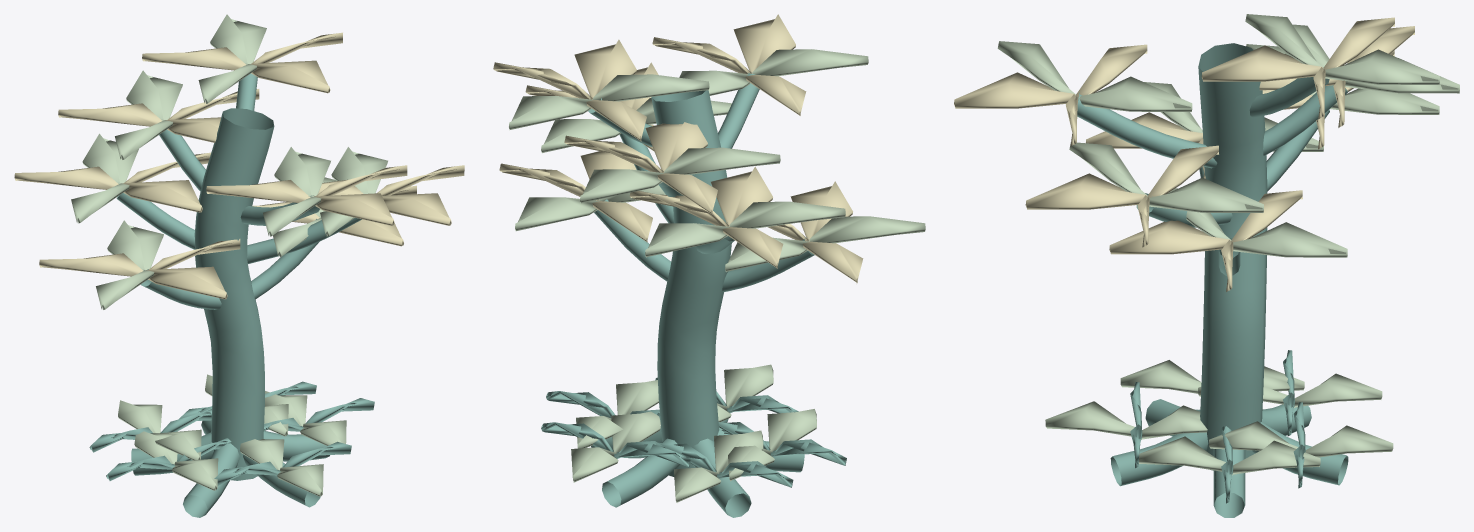
The model's file is bio_canopy_tree_10_far.glb.
3 renders of one model, left to right at view 1: azimuth 30°, elevation 25°; view 2: azimuth 150°, elevation 25°; view 3: azimuth 270°, elevation 25°, orthographic. The views are drawn at different scales.
Visible parts, largest first — view 1: Buttressed trunk, Broad canopy leaf.010, Broad canopy leaf.020, Broad canopy leaf.015, Broad canopy leaf.005, Broad canopy leaf.030, Broad canopy leaf.025, Broad canopy leaf.016, Broad canopy leaf.011, Broad canopy leaf.031, Broad canopy leaf.021, Broad canopy leaf.006 (+13 smaller); view 2: Buttressed trunk, Broad canopy leaf.010, Broad canopy leaf.015, Broad canopy leaf.005, Broad canopy leaf.030, Broad canopy leaf.031, Broad canopy leaf.006, Broad canopy leaf.016, Broad canopy leaf.021, Broad canopy leaf.011, Broad canopy leaf, Broad canopy leaf.020 (+13 smaller); view 3: Buttressed trunk, Broad canopy leaf.015, Broad canopy leaf.025, Broad canopy leaf.010, Broad canopy leaf, Broad canopy leaf.016, Broad canopy leaf.026, Broad canopy leaf.011, Low buttress leaf.001, Broad canopy leaf.001, Low buttress leaf.009, Low buttress leaf.013 (+10 smaller).
Part boxes in pixels (x1,y1,x2,y2): Buttressed trunk: (116,73,361,517); Broad canopy leaf.010: (206,165,407,225); Broad canopy leaf.020: (39,239,240,299); Broad canopy leaf.015: (142,32,342,93); Broad canopy leaf.005: (14,152,210,212); Broad canopy leaf.030: (58,89,259,142); Broad canopy leaf.025: (318,165,464,225); Broad canopy leaf.016: (198,14,266,103); Broad canopy leaf.011: (263,147,330,236); Broad canopy leaf.031: (115,70,182,159); Broad canopy leaf.021: (96,220,163,309); Broad canopy leaf.006: (71,133,138,223); Buttressed trunk: (588,73,814,517); Broad canopy leaf.010: (652,14,806,115); Broad canopy leaf.015: (493,39,646,141); Broad canopy leaf.005: (629,166,783,268); Broad canopy leaf.030: (564,122,717,214); Broad canopy leaf.031: (580,147,780,203); Broad canopy leaf.006: (645,201,845,257); Broad canopy leaf.016: (509,74,709,130); Broad canopy leaf.021: (725,216,925,271); Broad canopy leaf.011: (679,49,868,95); Broad canopy leaf: (499,151,652,242); Broad canopy leaf.020: (768,181,863,283); Buttressed trunk: (1077,43,1348,517); Broad canopy leaf.015: (1201,17,1394,119); Broad canopy leaf.025: (1025,145,1218,247); Broad canopy leaf.010: (954,44,1147,146); Broad canopy leaf: (1109,190,1302,291); Broad canopy leaf.016: (1245,14,1439,84); Broad canopy leaf.026: (1069,142,1263,212); Broad canopy leaf.011: (997,41,1192,111); Low buttress leaf.001: (1139,436,1320,475); Broad canopy leaf.001: (1169,188,1347,257); Low buttress leaf.009: (1045,401,1207,439); Low buttress leaf.013: (1209,421,1393,457).
Size of the model in its own units: 2.97 by 2.99 by 3.05.
